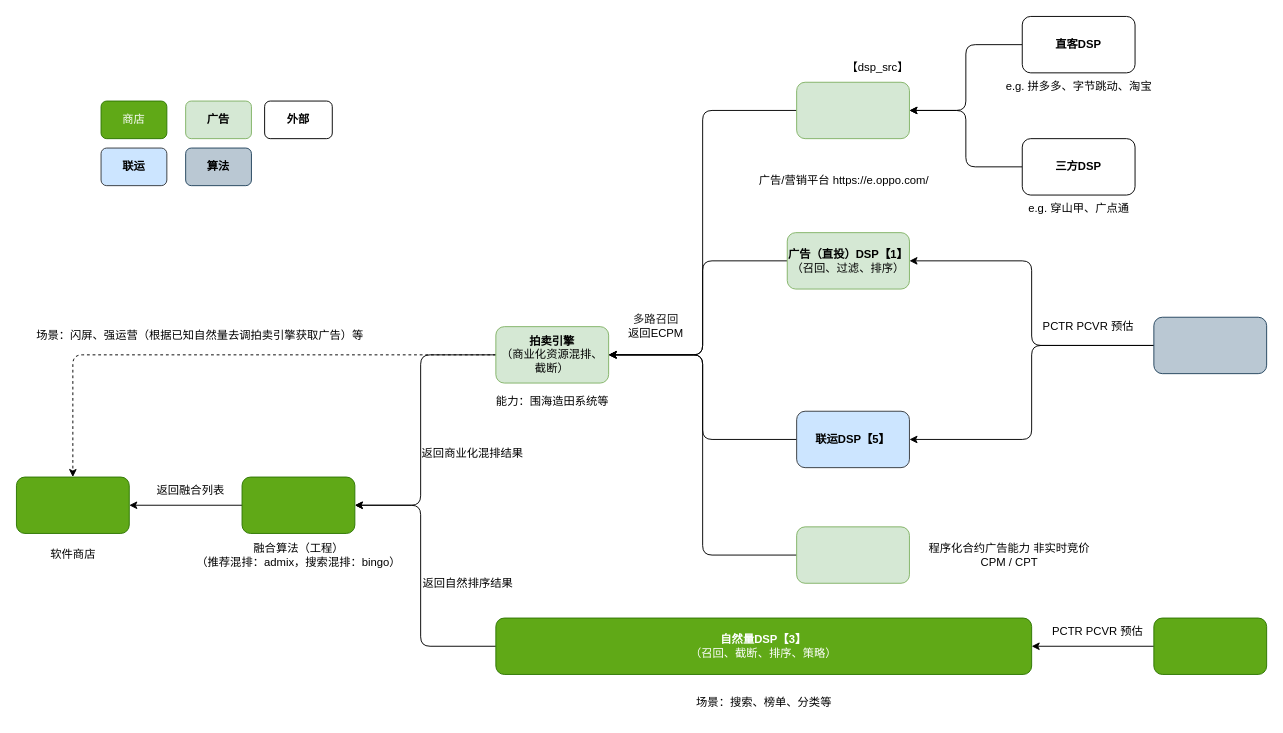
The diagram is 1283 pixels wide and 733 high, and some of its shapes have lost their labels. Each missing label, with the centre of its shape:
"品牌DSP【10】" belongs at (852,554).
"商业化 算法 （观星、头条）" belongs at (1210,345).
"外部DSP【5】 （OPPO ADX）" belongs at (852,110).
"媒体" belongs at (72,504).
"媒体引擎 （自然 + 商业化混排、用户体验等）" belongs at (298,504).
"自然算法 （自建预估模型）" belongs at (1210,645).
